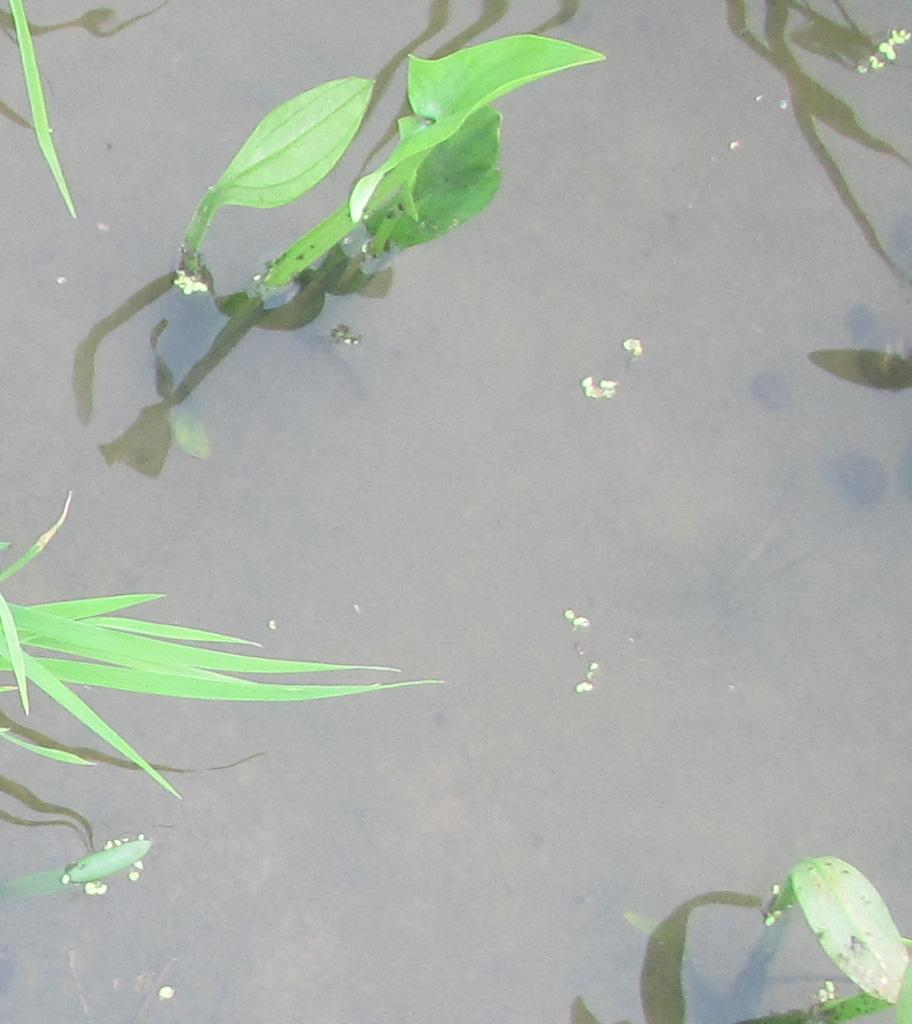Weed: (174, 30, 614, 302), (764, 849, 907, 1014)
